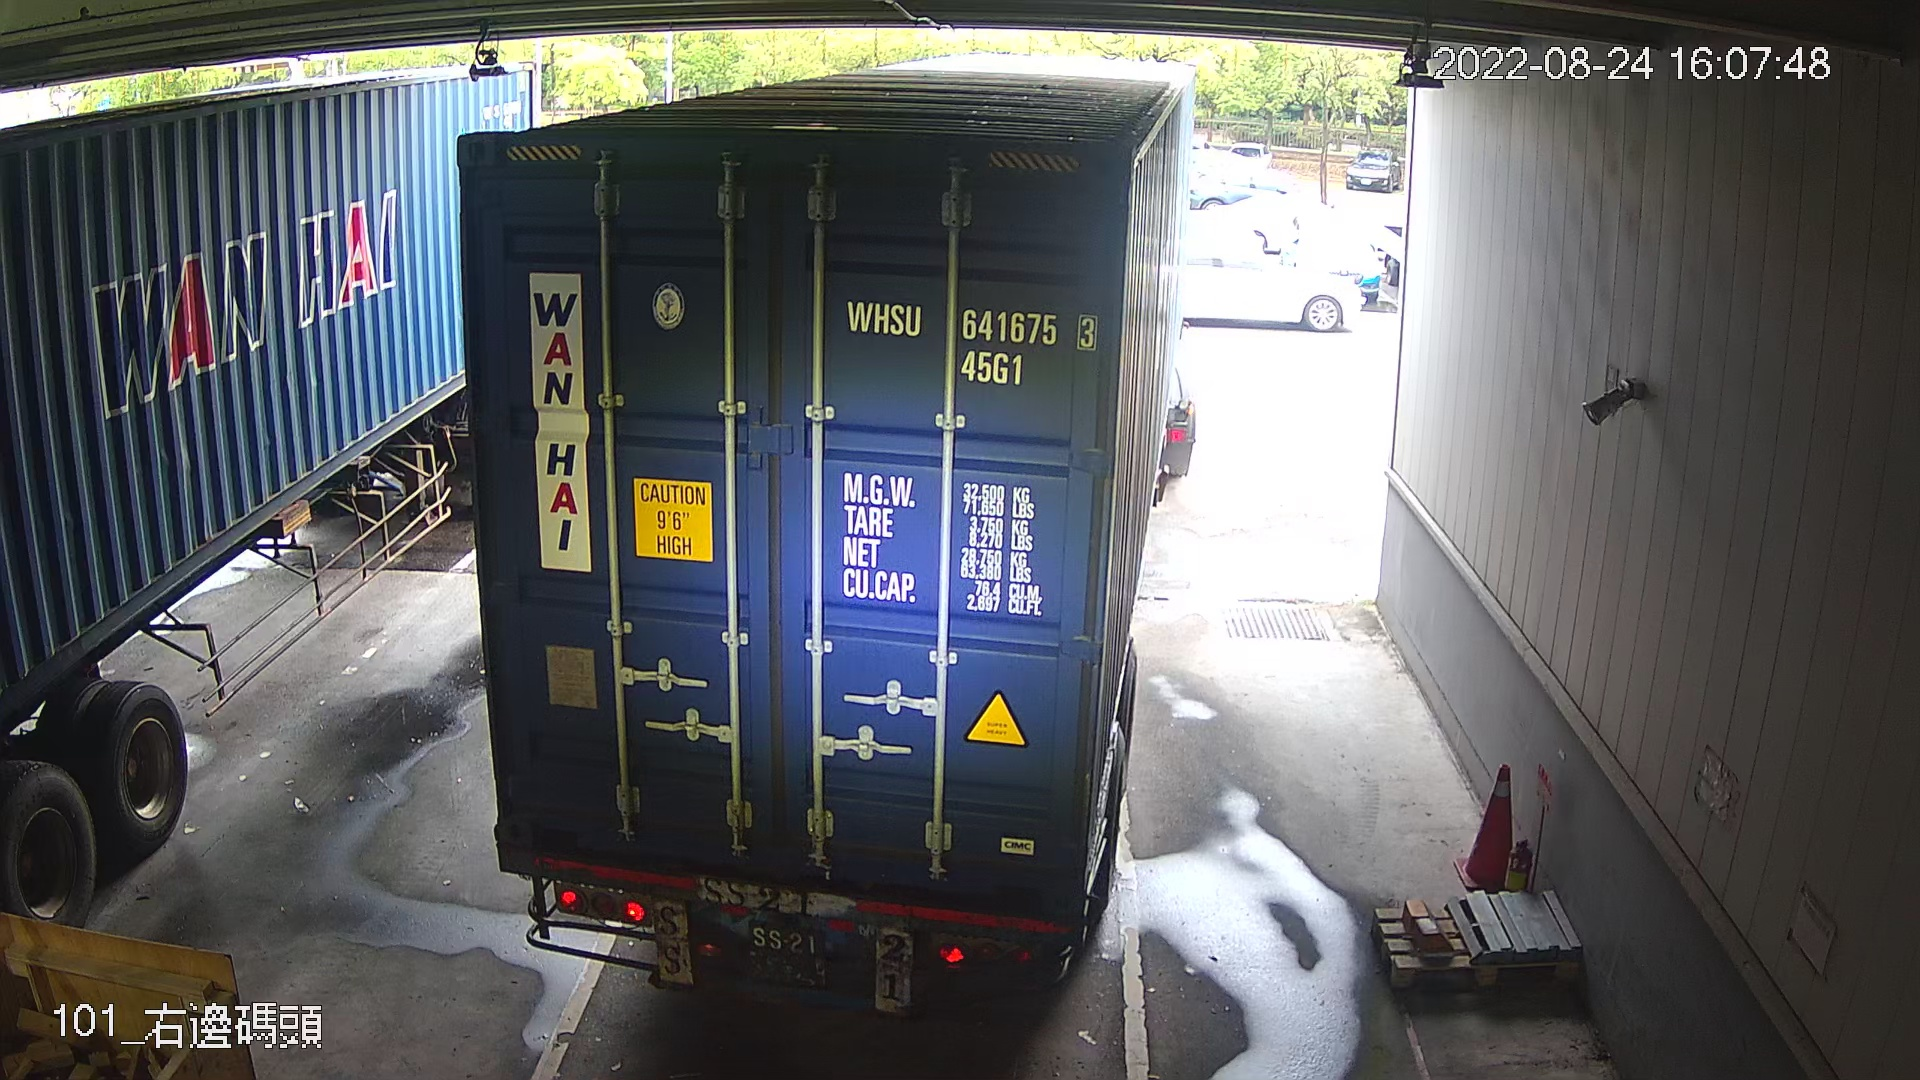container: (835, 285, 1109, 404)
